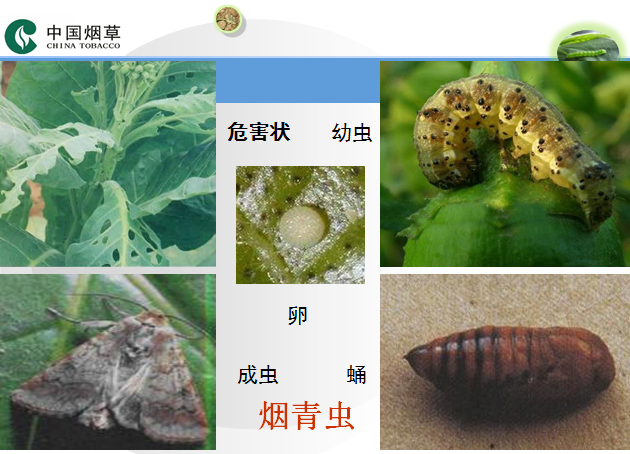Tobacco_budworm: (413, 72, 618, 231), (6, 291, 211, 445), (398, 322, 618, 407), (275, 204, 326, 251)
